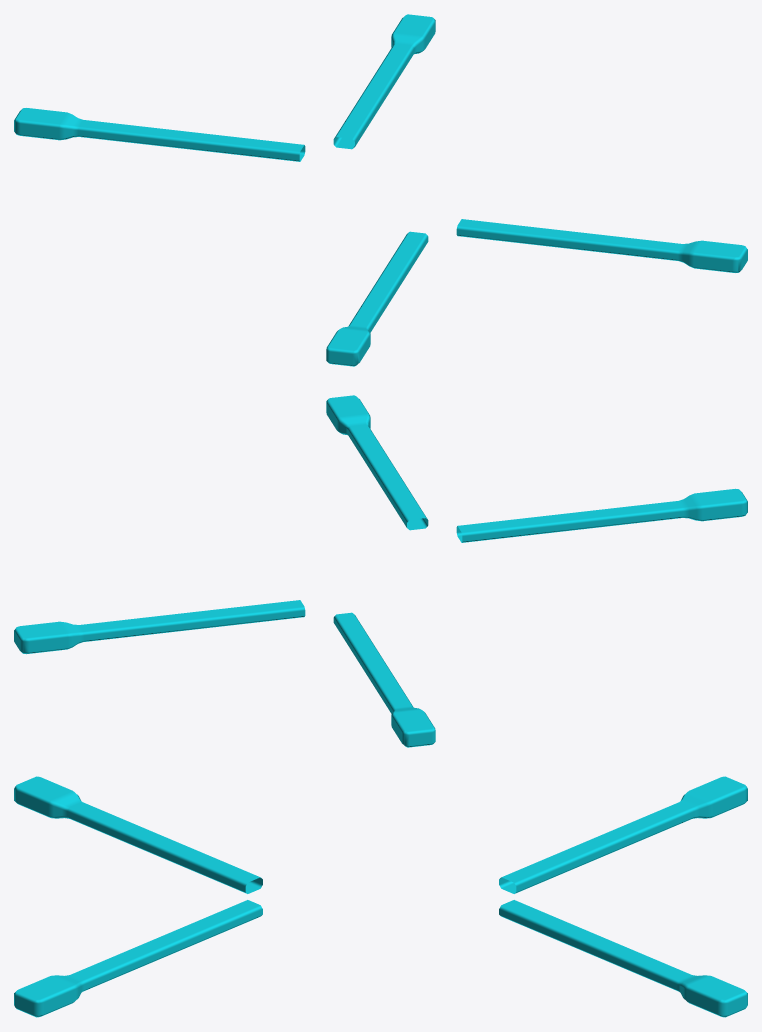
The model's file is DroneArms.fbx.
The picture shows the model from 3 angles, top to bottom: view 1: azimuth 30°, elevation 25°; view 2: azimuth 150°, elevation 25°; view 3: azimuth 270°, elevation 25°; orthographic projection. The views are drawn at different scales.
Visible parts, largest first — view 1: Arms; view 2: Arms; view 3: Arms.
Boxes of the visible parts, bbox=[...] form: Arms: bbox=[14, 14, 747, 366]; Arms: bbox=[14, 395, 747, 747]; Arms: bbox=[14, 776, 747, 1017].
Bounding box in the file's own units: 128 × 4.74 × 176.
